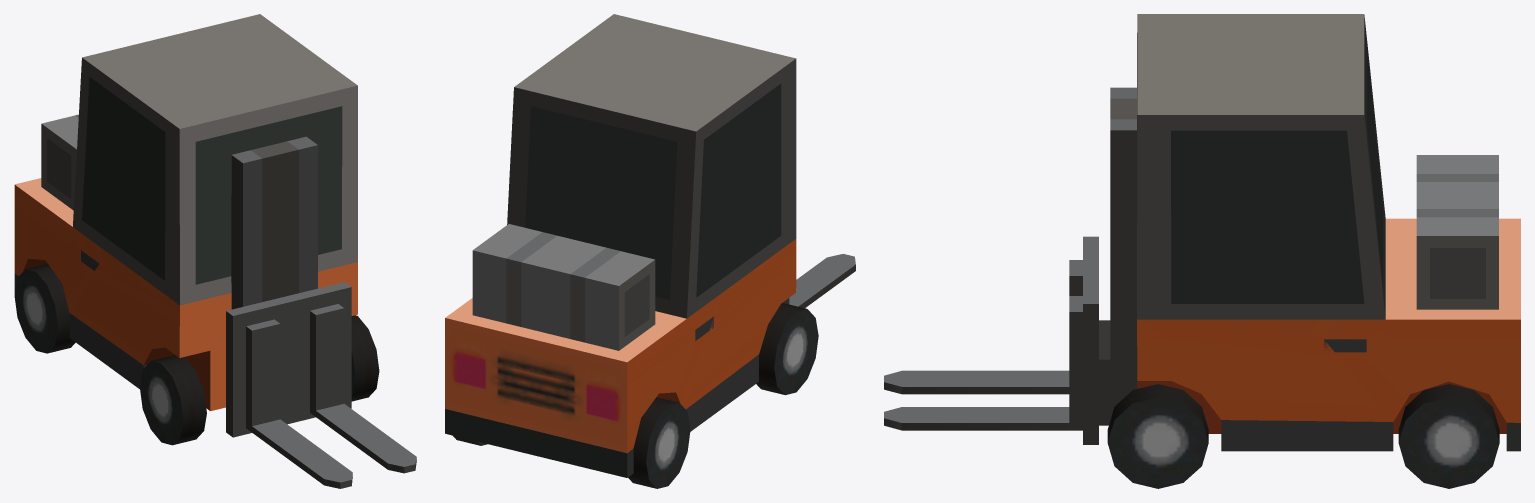
File: forklift.FBX
3 renders of one model, left to right at view 1: azimuth 30°, elevation 25°; view 2: azimuth 150°, elevation 25°; view 3: azimuth 270°, elevation 25°, orthographic. The views are drawn at different scales.
Visible parts, largest first — view 1: forklift; view 2: forklift; view 3: forklift.
Boxes of the visible parts, left/top/right/bottom form: forklift: left=14, top=14, right=416, bottom=488; forklift: left=445, top=14, right=855, bottom=488; forklift: left=884, top=14, right=1520, bottom=488.
Bounding box in the file's own units: 2.14 × 3.31 × 5.18.
